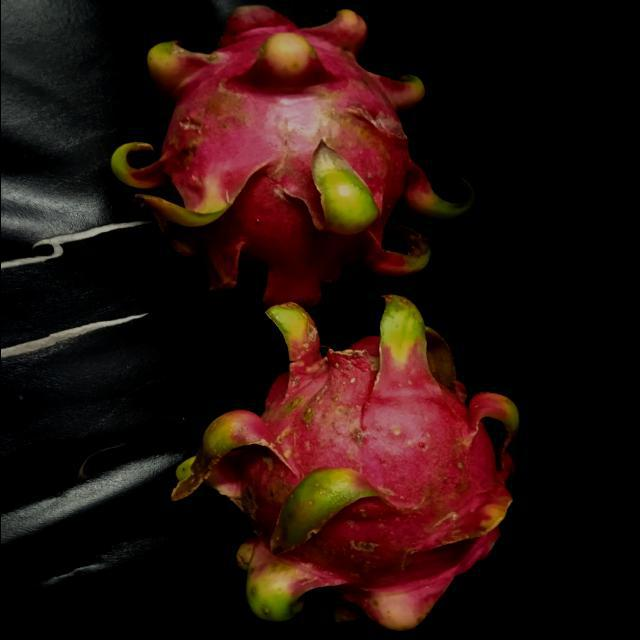do: (172, 299, 524, 632), (114, 7, 478, 306)
